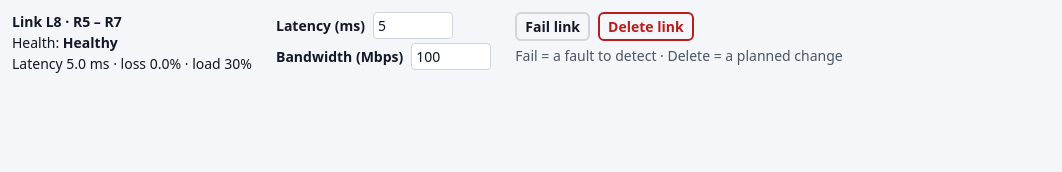
inspector › keeps the field and shows the error when the server rejects the value
Replace the text in the number field labelled "Latency (ms)" with "9999": coordinates (413, 26) [373, 12, 453, 39]
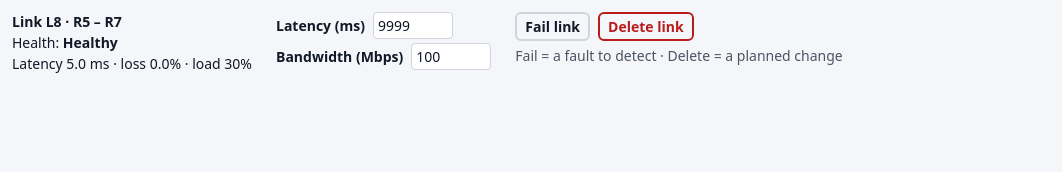
Leave the number field labelled "Latency (ms)", box [373, 12, 453, 39]
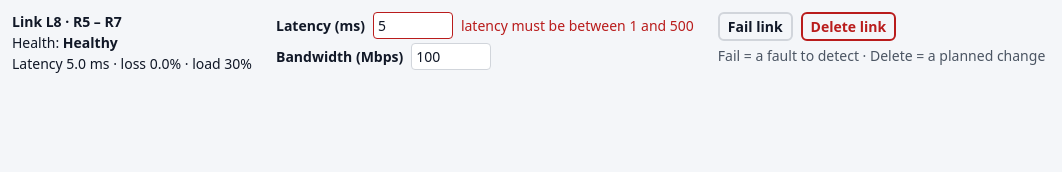
Result: the message reads "latency must be between 1 and 500" at [461, 16, 694, 35]
